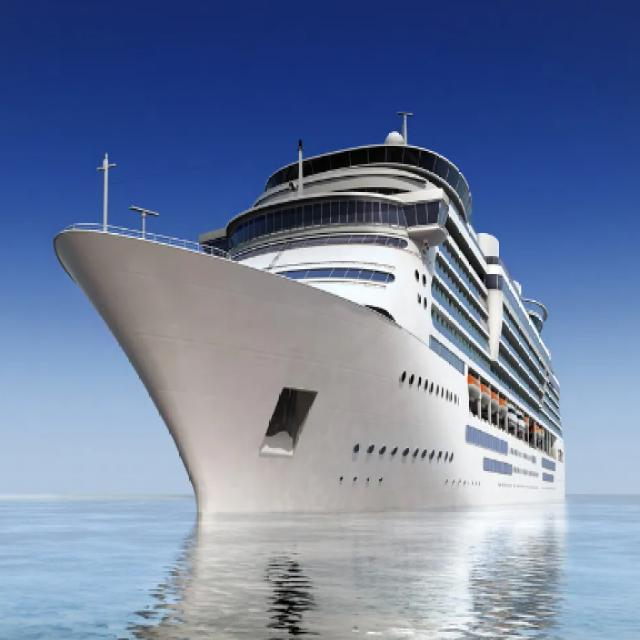passenger ship: (57, 119, 566, 544)
